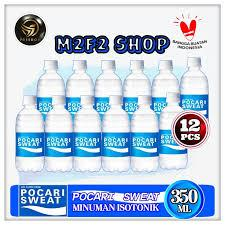BIODEGRADABLE: (14, 98, 42, 174), (47, 102, 74, 180), (187, 57, 215, 128), (152, 58, 182, 123), (78, 102, 103, 178), (159, 92, 181, 173), (109, 107, 134, 178), (37, 59, 65, 119), (122, 62, 151, 119), (140, 110, 164, 178), (66, 61, 94, 119), (95, 61, 122, 119)
